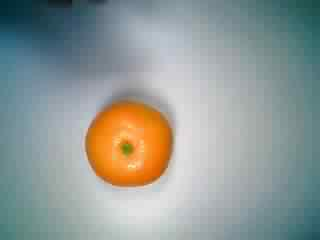orange: (79, 95, 176, 192)
